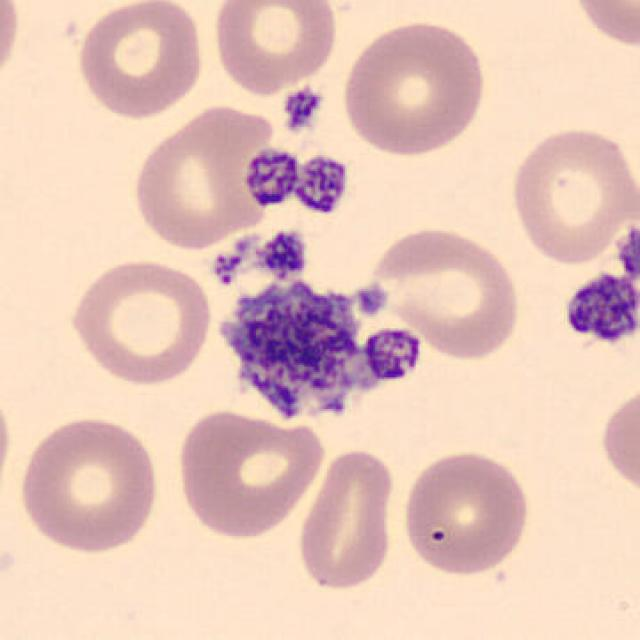Platelets: (229, 279, 355, 407), (558, 256, 640, 354), (292, 152, 352, 216), (242, 144, 300, 210), (366, 325, 424, 388), (213, 234, 256, 291), (260, 228, 310, 277), (279, 85, 325, 134), (352, 282, 389, 317)
RBC: (361, 222, 524, 363), (128, 101, 276, 252), (338, 16, 490, 160), (14, 411, 164, 555), (171, 406, 325, 543), (66, 254, 215, 388), (505, 122, 636, 268), (398, 446, 534, 580), (73, 0, 208, 122), (293, 446, 400, 594), (208, 0, 341, 97), (596, 379, 638, 503), (565, 0, 640, 53), (0, 0, 23, 93), (0, 377, 16, 506)
